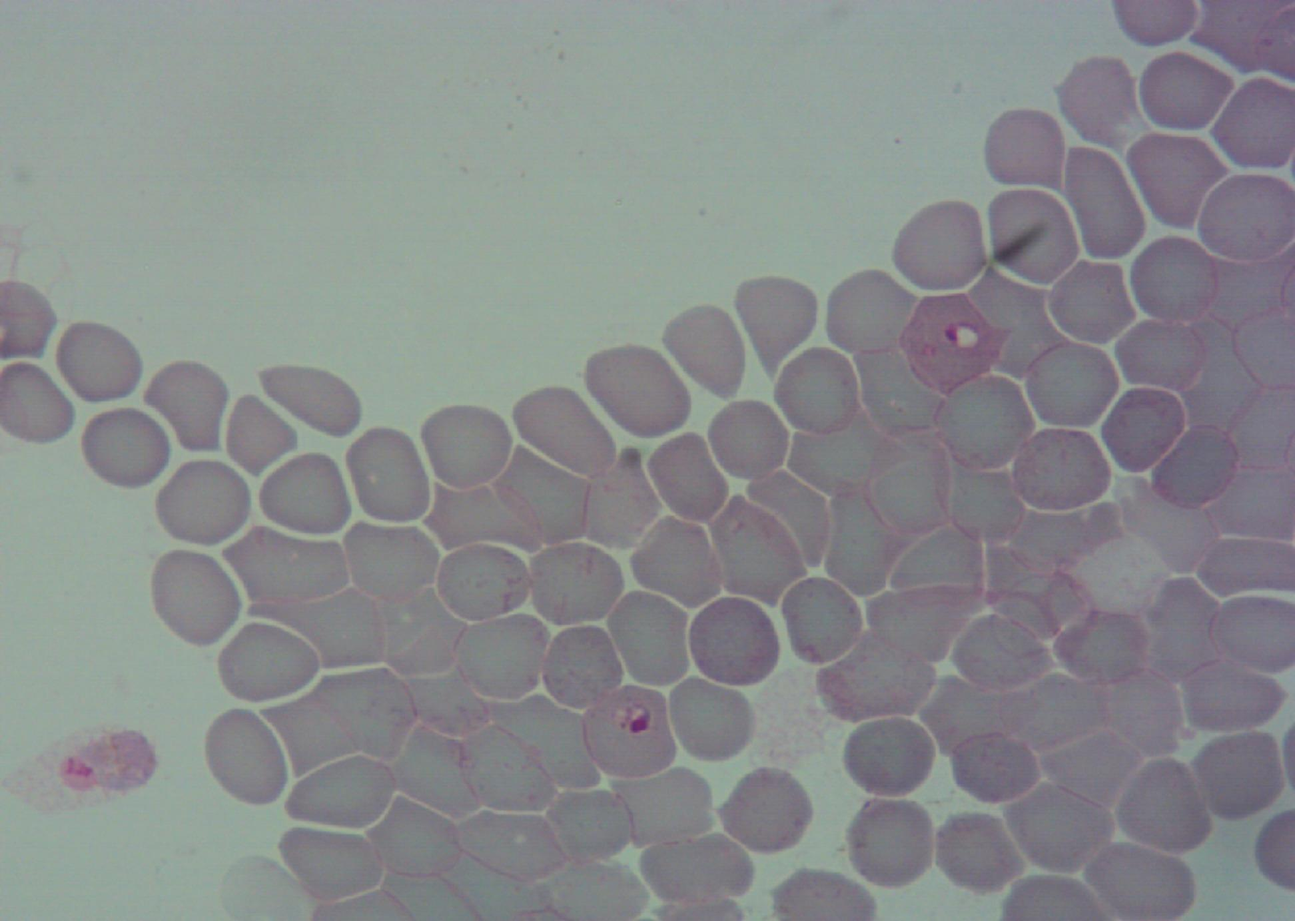Infected: (897, 293, 1003, 397), (576, 679, 677, 780)
Uninfected: (262, 669, 415, 776), (496, 688, 616, 794), (252, 587, 400, 667), (489, 444, 597, 549), (390, 627, 490, 739), (815, 636, 938, 725), (514, 382, 618, 487), (1001, 778, 1114, 874), (1175, 311, 1262, 434), (708, 494, 804, 605), (580, 341, 692, 434), (862, 420, 945, 542), (929, 373, 1031, 472), (1019, 335, 1122, 433), (1116, 479, 1221, 575), (851, 333, 943, 442), (224, 523, 351, 601), (1116, 757, 1215, 856), (1128, 135, 1230, 231), (149, 546, 244, 649), (970, 282, 1069, 380), (727, 275, 827, 372), (385, 721, 482, 821), (1186, 729, 1288, 824), (601, 587, 695, 690), (454, 720, 564, 808), (1061, 145, 1142, 264), (1052, 49, 1149, 147), (891, 199, 991, 294), (922, 675, 1036, 758), (344, 422, 434, 527), (821, 266, 921, 360), (1063, 533, 1174, 617), (987, 188, 1082, 286), (151, 457, 252, 549), (523, 539, 628, 627), (1142, 571, 1226, 681), (843, 795, 939, 891), (357, 804, 468, 887), (628, 514, 726, 608), (983, 543, 1081, 637), (449, 612, 550, 703), (685, 594, 782, 688), (214, 618, 320, 704), (1079, 846, 1200, 921), (284, 751, 398, 830), (342, 522, 443, 611), (659, 302, 749, 401), (998, 677, 1112, 755), (278, 821, 385, 904), (864, 583, 975, 663), (637, 834, 760, 906), (771, 344, 865, 438), (420, 400, 517, 491), (141, 360, 232, 456), (749, 469, 831, 575), (1127, 235, 1223, 325), (432, 541, 530, 629), (445, 810, 564, 882), (378, 585, 468, 680), (1010, 501, 1124, 576), (50, 317, 146, 406), (664, 675, 758, 765), (256, 452, 354, 538), (823, 483, 898, 595), (790, 414, 891, 497), (583, 445, 665, 547), (1134, 49, 1233, 133), (1178, 657, 1290, 731), (1098, 386, 1191, 475), (721, 764, 812, 854), (426, 481, 543, 551), (1148, 422, 1240, 511), (777, 574, 865, 667), (1053, 605, 1155, 685), (207, 709, 288, 809), (1046, 258, 1138, 346), (839, 715, 936, 798), (1014, 432, 1112, 513), (1039, 734, 1144, 808), (538, 624, 626, 712), (646, 434, 731, 525), (613, 767, 714, 843), (543, 784, 636, 866), (705, 398, 791, 485), (1114, 316, 1211, 392), (257, 368, 361, 438), (953, 613, 1049, 688), (81, 409, 169, 490), (1103, 671, 1183, 757), (222, 390, 300, 477), (935, 814, 1021, 892), (950, 734, 1042, 805), (891, 528, 981, 598), (944, 465, 1023, 540), (987, 109, 1069, 179)
